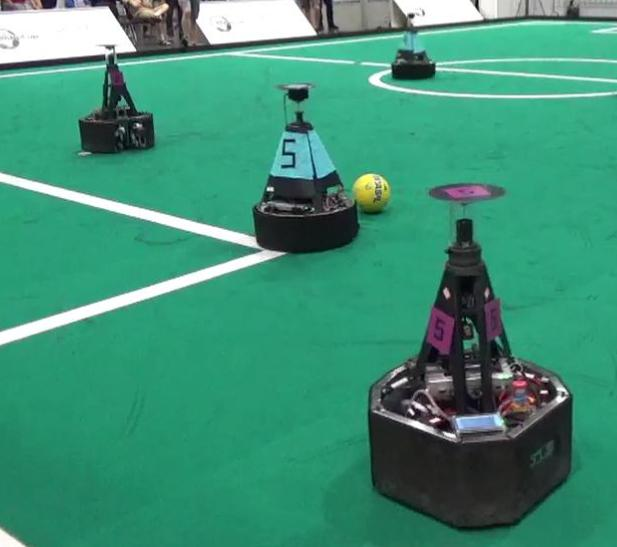robot: (367, 175, 577, 534), (249, 76, 364, 254), (67, 35, 171, 158)
